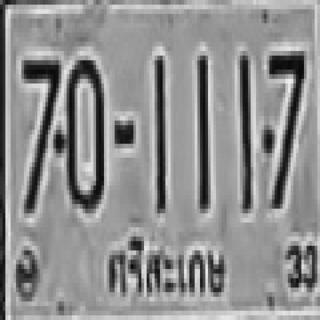N00: (65, 56, 103, 209)
N01: (237, 51, 251, 209), (153, 53, 167, 211), (196, 51, 209, 209)
N07: (20, 56, 60, 209), (267, 49, 304, 206)
P63: (101, 231, 228, 303)
